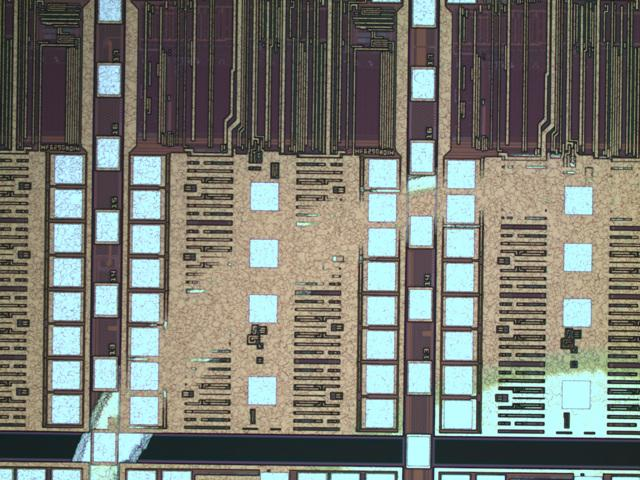BLOCK ETCH: (69, 154, 640, 480)
